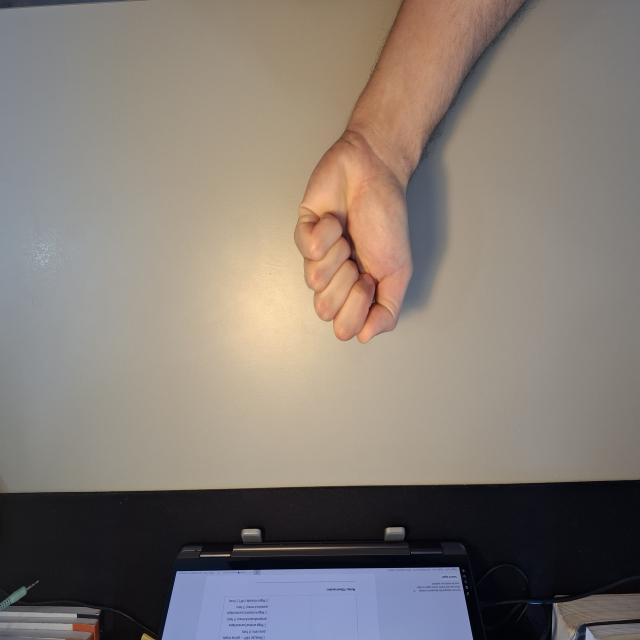glove_off: (292, 117, 417, 348)
